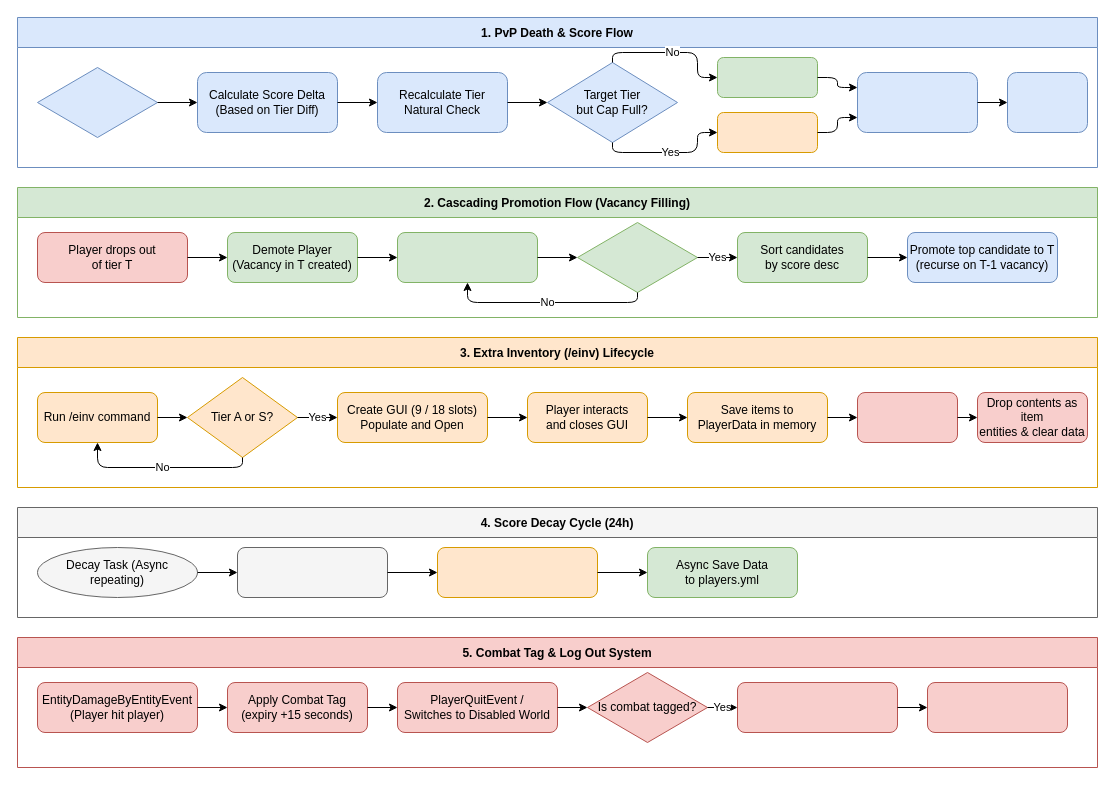
Some shapes in this 1115 by 785 pixel diagram are drawn without their labels. The shapes that lost their labels are listed below. From the top down, each one's centre as x and y in pixels, then its label:
point (767, 77): Promote to Target
point (97, 102): PlayerDeathEvent
point (917, 102): Apply Tier Benefits (Health, Speed, etc)
point (1047, 102): Visual & Nametag Update
point (767, 132): Hold at Current
point (467, 257): Find all candidates in T-1 (score >= T threshold)
point (637, 257): Any candidates exist?
point (907, 417): Player dies / combat logs
point (312, 572): Loop player list Reduce score by 2%
point (517, 572): Sync Recalculate Tiers for changed players
point (817, 707): Deduct score (as if died) Drop einv & Clear streak
point (997, 707): Broadcast combat log and Save Data
